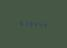four: (33, 19, 37, 28), (43, 20, 47, 29), (38, 20, 42, 28)
nine: (28, 19, 32, 27)
seven: (22, 19, 26, 27)
six: (17, 18, 21, 26)
